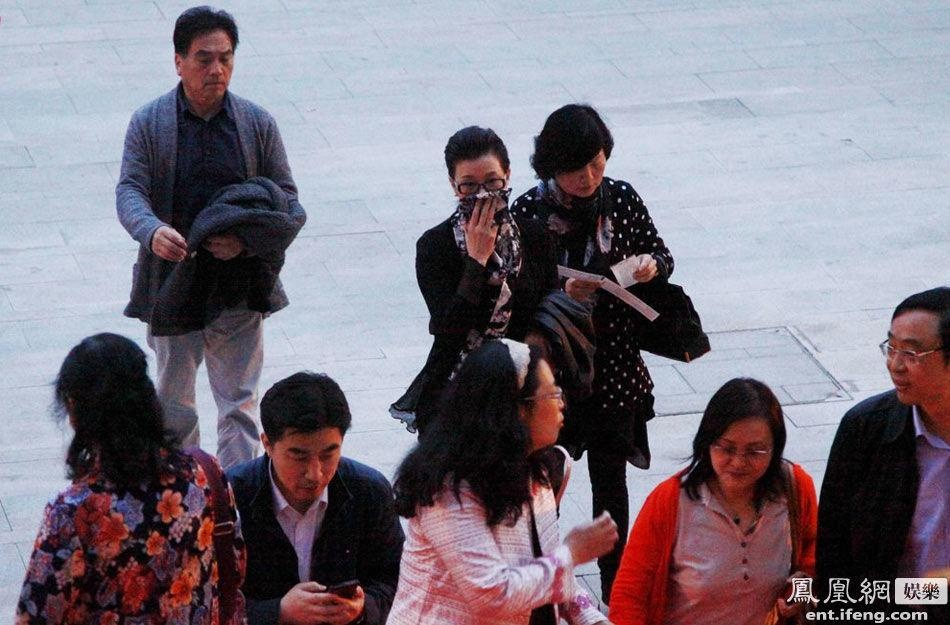Mask: (459, 163, 505, 209)
